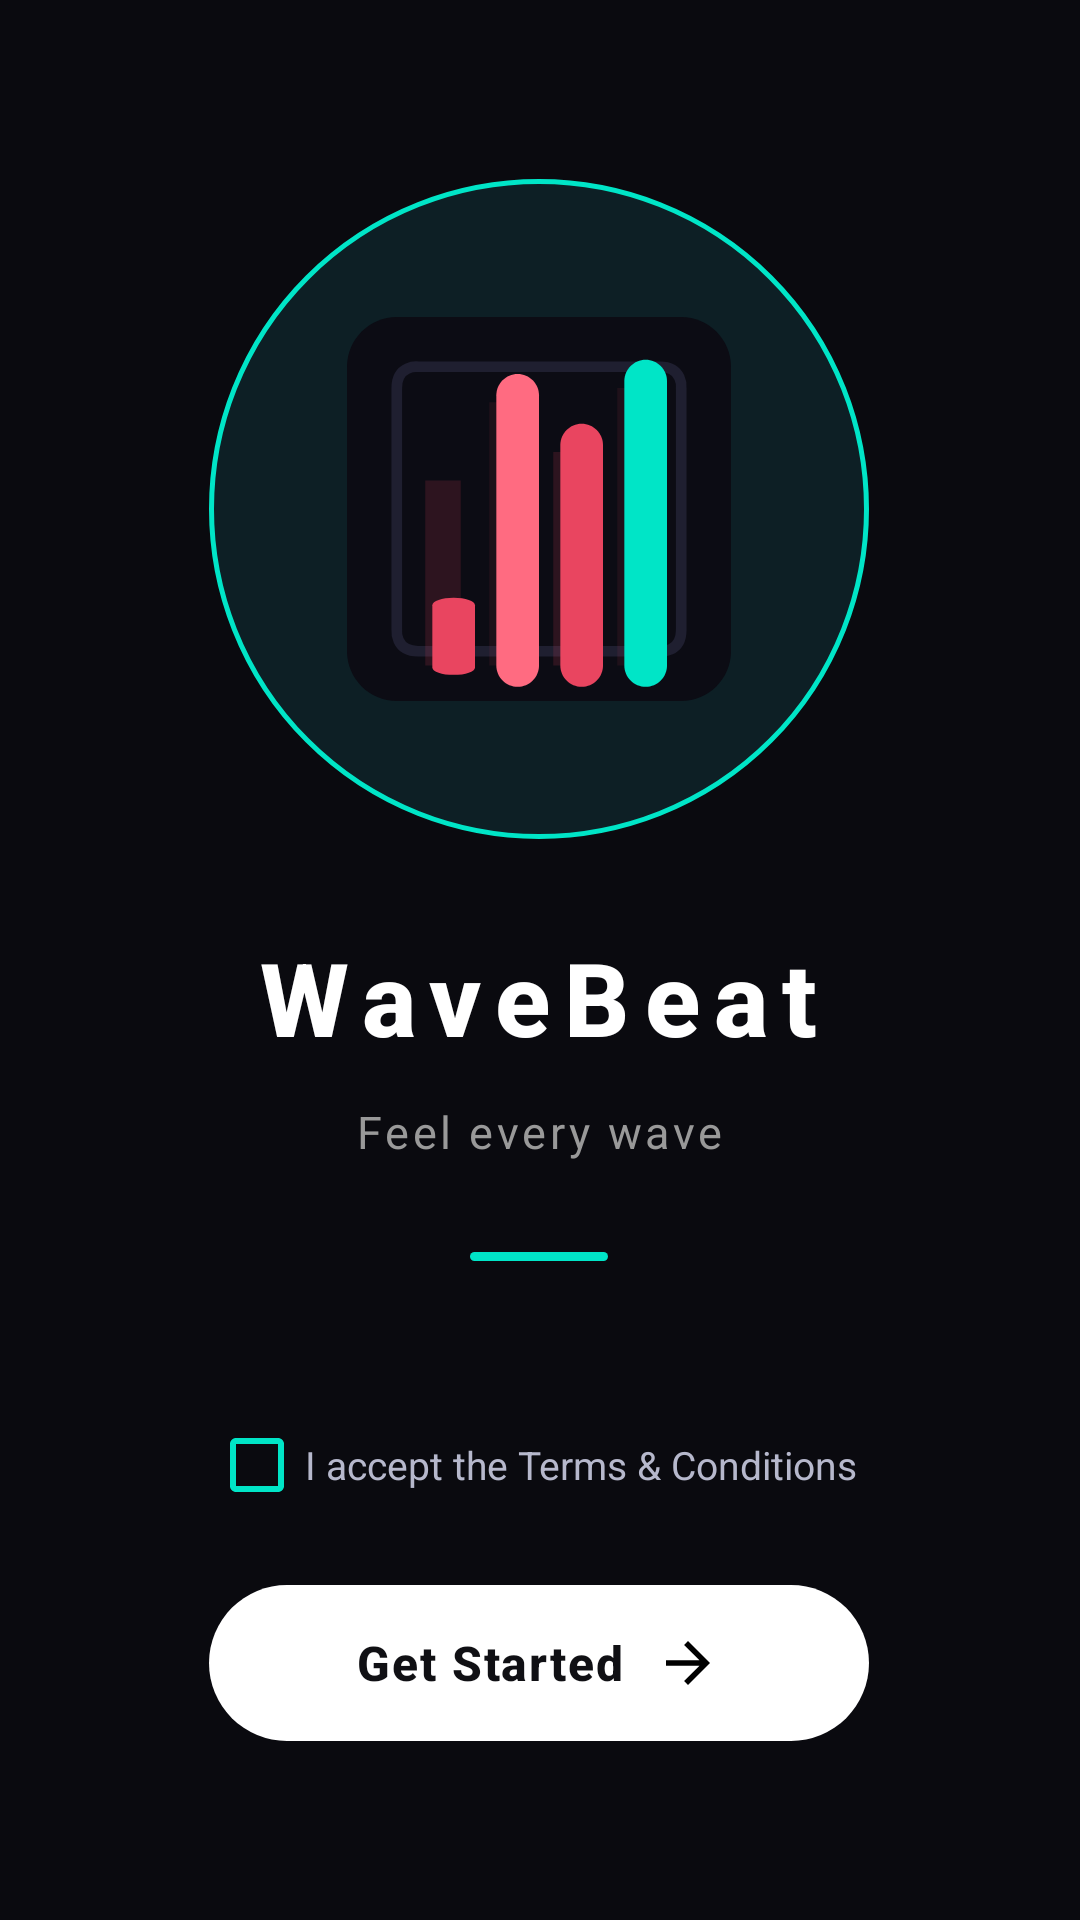

Locate icon controls on the screen. Image size 1080x1920, boxes as (x1, y1, x2, y2).
arrow forward: (666, 1641, 710, 1685)
